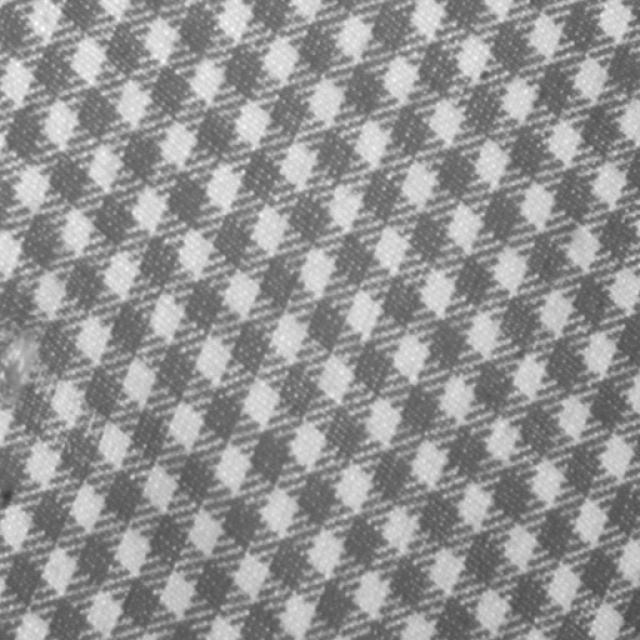Hole-Defect: (0, 331, 36, 409)
